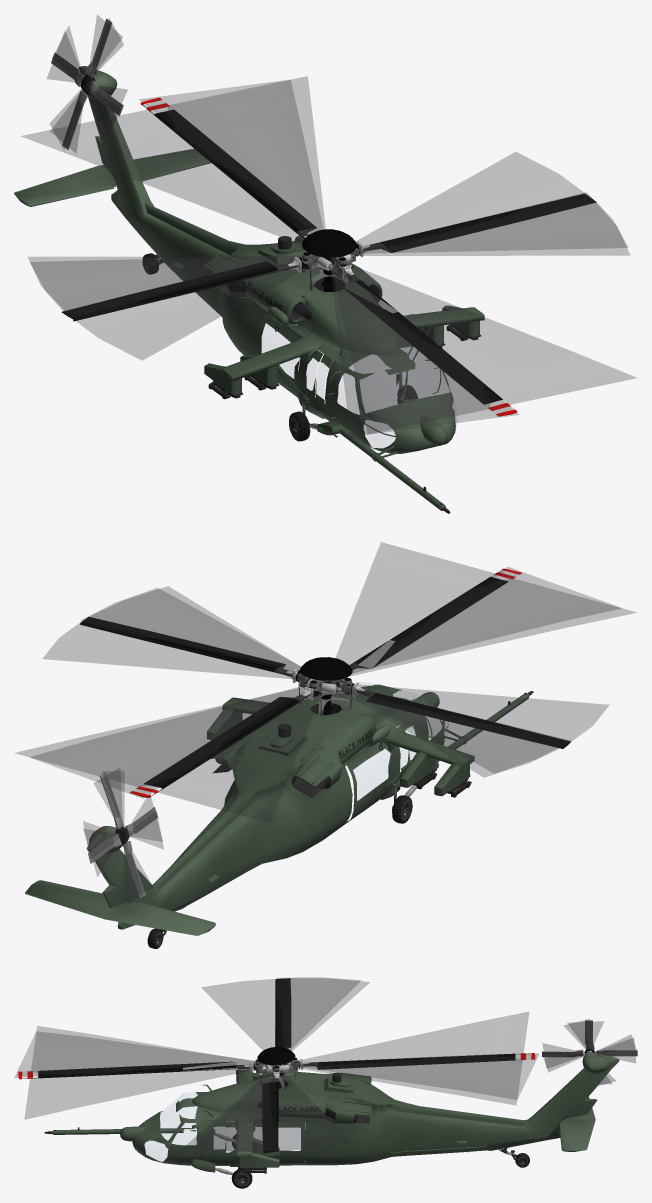
Rendered from transport_heli_uh60.glb.
3 views of the same model, one above another, from view 1: azimuth 30°, elevation 25°; view 2: azimuth 150°, elevation 25°; view 3: azimuth 270°, elevation 25° (orthographic). The views are drawn at different scales.
Visible parts, largest first — view 1: HDRglaceL; view 2: HDRglaceL; view 3: HDRglaceL.
Boxes of the visible parts, bbox=[...] form: HDRglaceL: bbox=[14, 15, 636, 513]; HDRglaceL: bbox=[15, 542, 636, 948]; HDRglaceL: bbox=[14, 977, 637, 1188].
Bounding box in the file's own units: 13.03 × 5.38 × 19.8.
Materials: 7 (7 with a texture image).
